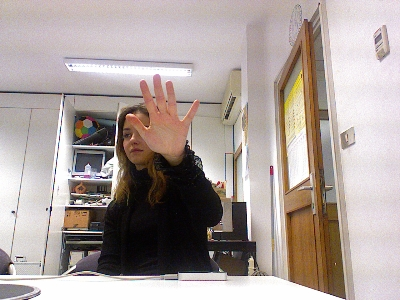布: (125, 72, 200, 157)
